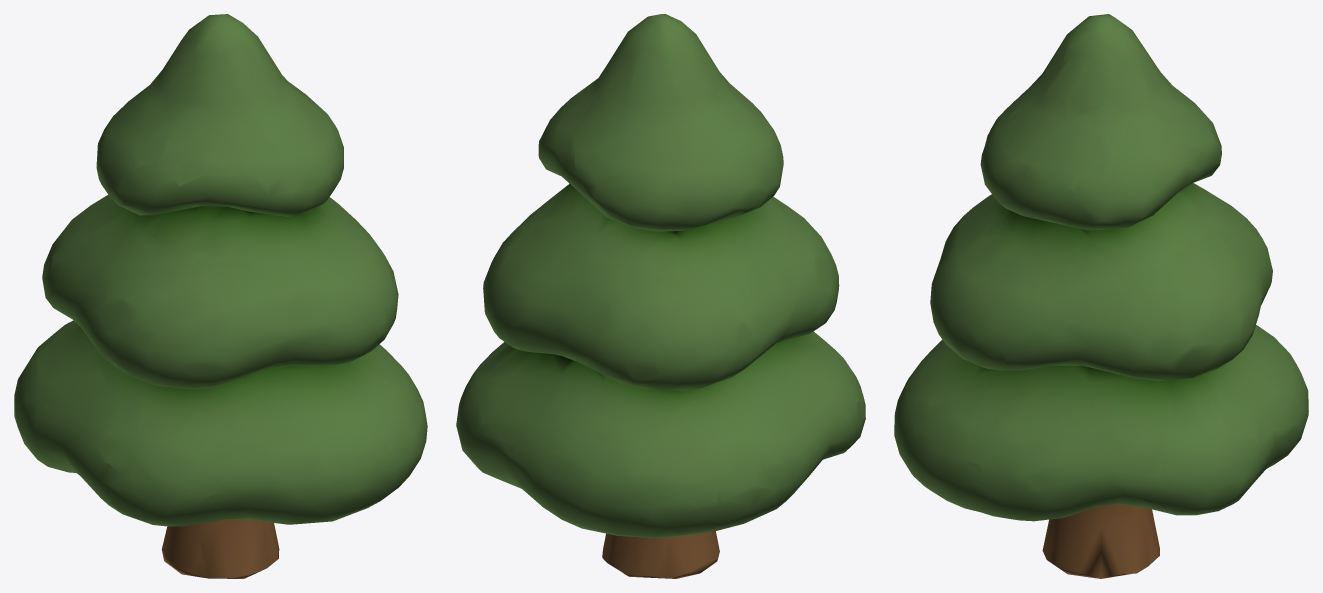
3 views of the same model, side by side, from view 1: azimuth 30°, elevation 25°; view 2: azimuth 150°, elevation 25°; view 3: azimuth 270°, elevation 25° (orthographic).
Parts seen in each view (by area): view 1: tripo_node_6b86dbd2-c9fc-48f7-ad6e-a66f659a5319; view 2: tripo_node_6b86dbd2-c9fc-48f7-ad6e-a66f659a5319; view 3: tripo_node_6b86dbd2-c9fc-48f7-ad6e-a66f659a5319.
Part boxes in pixels (<box>): tripo_node_6b86dbd2-c9fc-48f7-ad6e-a66f659a5319: <box>14,14,427,578</box>; tripo_node_6b86dbd2-c9fc-48f7-ad6e-a66f659a5319: <box>456,14,865,578</box>; tripo_node_6b86dbd2-c9fc-48f7-ad6e-a66f659a5319: <box>894,14,1308,578</box>.
Size of the model in its own units: 0.6354 by 1 by 0.6978.
1 material, 1 textured.
